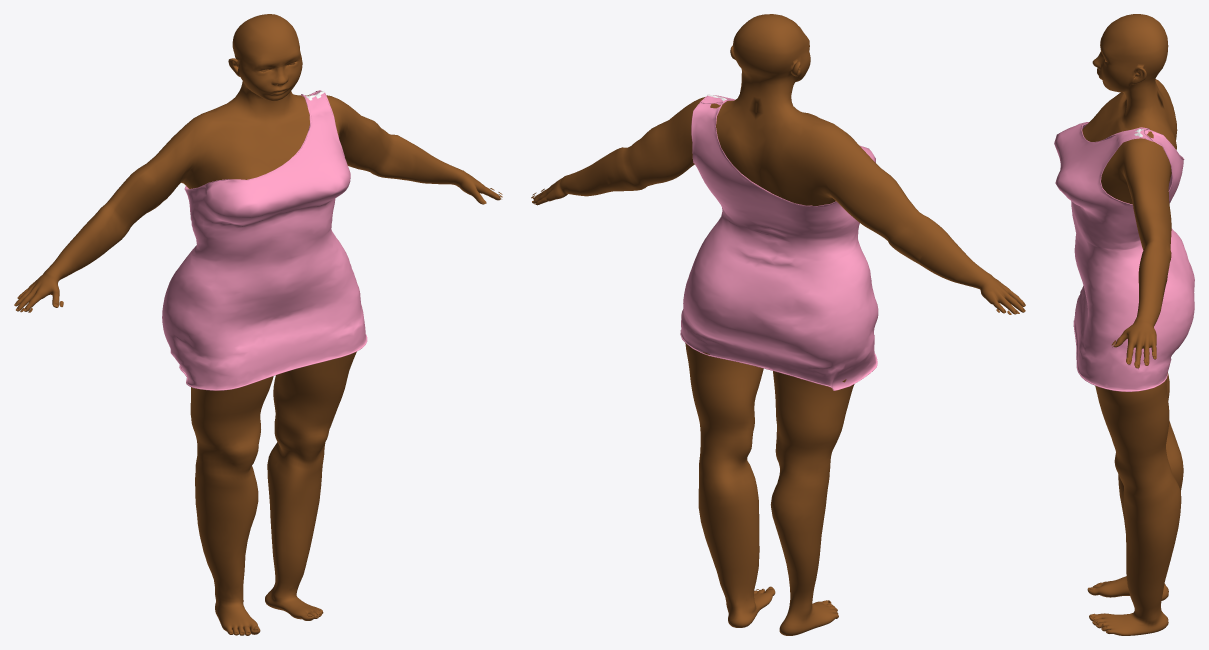
File: dress1.glb
The picture shows the model from 3 angles, left to right: view 1: azimuth 30°, elevation 25°; view 2: azimuth 150°, elevation 25°; view 3: azimuth 270°, elevation 25°; orthographic projection.
Parts seen in each view (by area): view 1: Body, WhiteDress; view 2: Body, WhiteDress; view 3: Body, WhiteDress.
Boxes of the visible parts, bbox=[...] form: Body: bbox=[14, 14, 501, 635]; WhiteDress: bbox=[162, 90, 367, 390]; Body: bbox=[532, 14, 1025, 635]; WhiteDress: bbox=[680, 94, 878, 390]; Body: bbox=[1082, 14, 1183, 635]; WhiteDress: bbox=[1054, 122, 1194, 391].
Size of the model in its own units: 1.59 by 1.88 by 0.3984.
